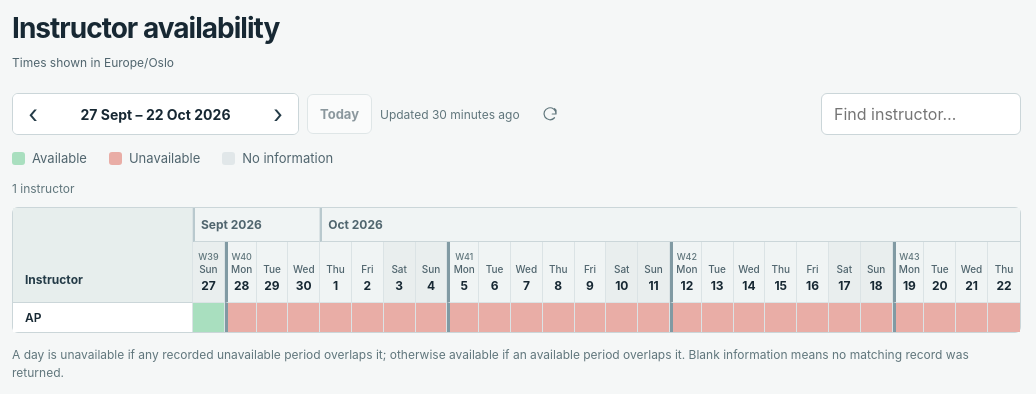
Test case: continuous availability window › Today resets the first date rather than a month offset
This screenshot has width=1036, height=394.
Click the button "›": x=278, y=114 [258,94,298,134]
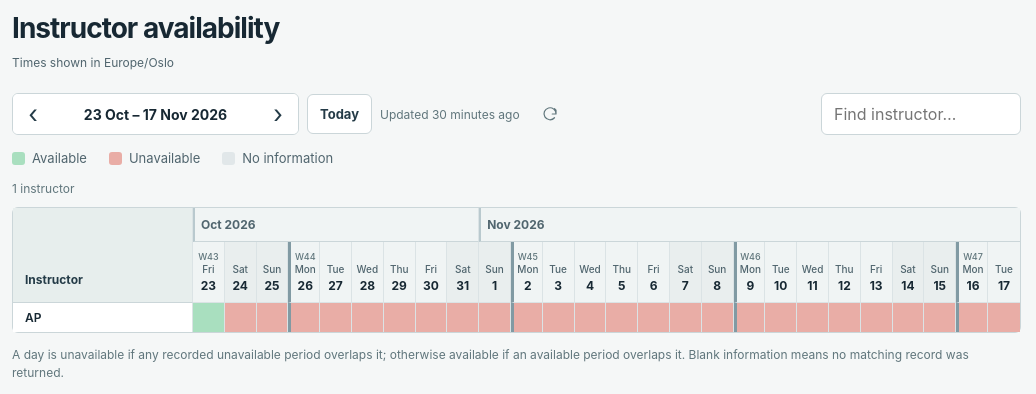
Click the button with class "today-button": x=340, y=114 [307,94,372,134]
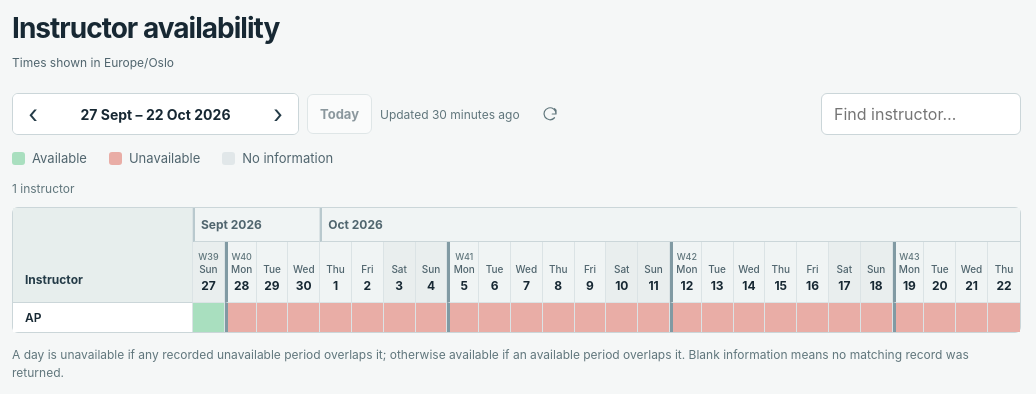
expect the button with class "today-button" is disabled: met, box [307,94,372,134]
